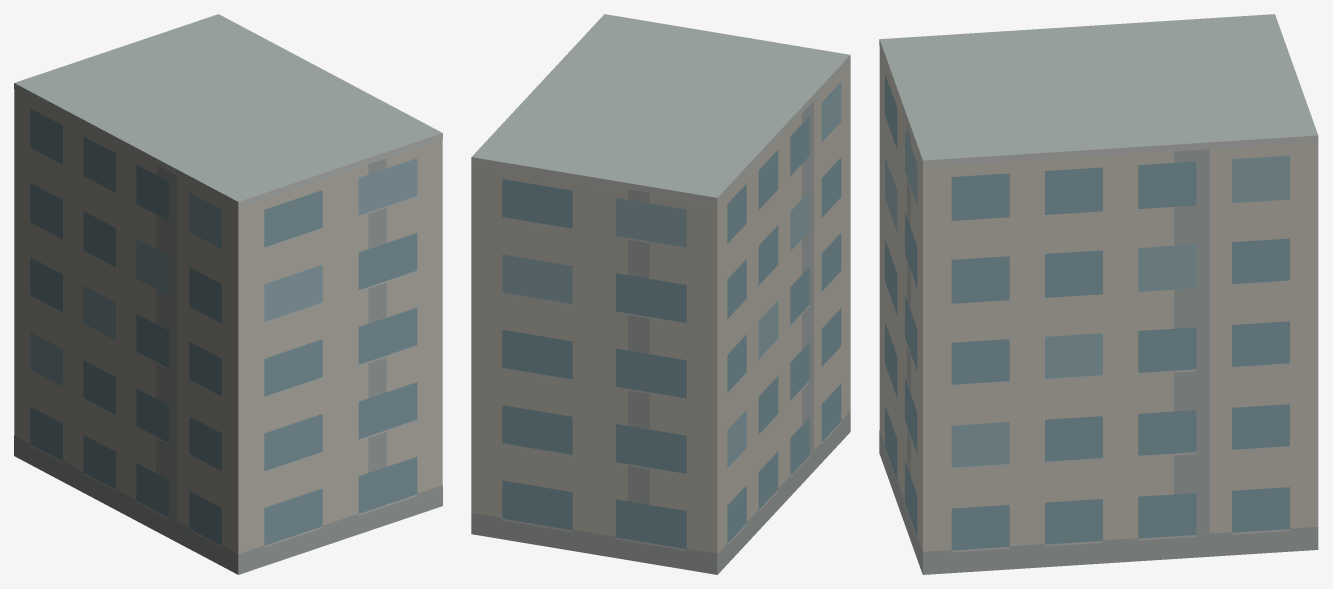
File: survey-upis-32716143.glb
3 renders of one model, left to right at view 1: azimuth 30°, elevation 25°; view 2: azimuth 150°, elevation 25°; view 3: azimuth 270°, elevation 25°, orthographic. The views are drawn at different scales.
Visible parts, largest first — view 1: survey-upis-32716143.tmp; view 2: survey-upis-32716143.tmp; view 3: survey-upis-32716143.tmp.
Part boxes in pixels (bbox=[...]): survey-upis-32716143.tmp: bbox=[14, 14, 442, 574]; survey-upis-32716143.tmp: bbox=[471, 14, 850, 574]; survey-upis-32716143.tmp: bbox=[879, 14, 1318, 574].
Size of the model in its own units: 11.12 by 14.65 by 14.07.
